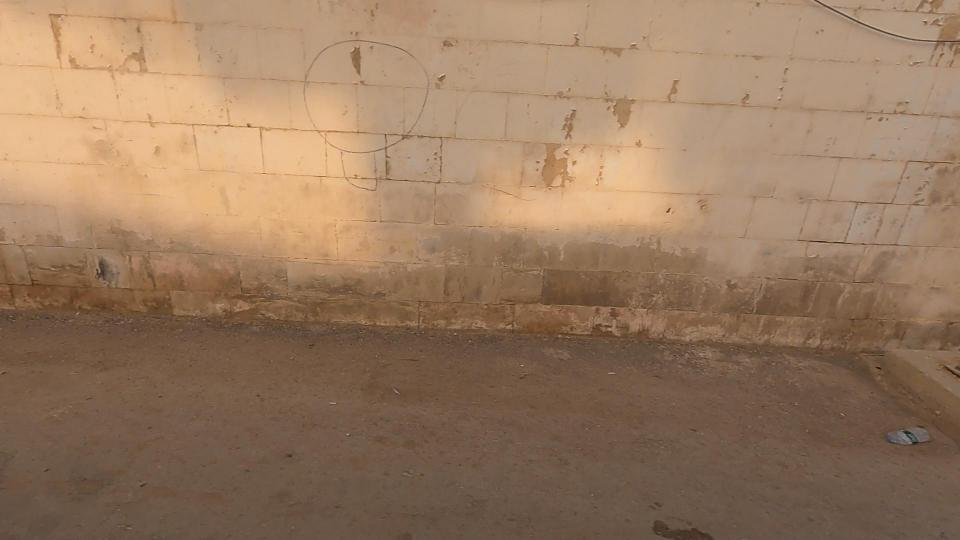GARBAGE: (807, 370, 960, 486)
GRAFFITI: (184, 0, 544, 251)
